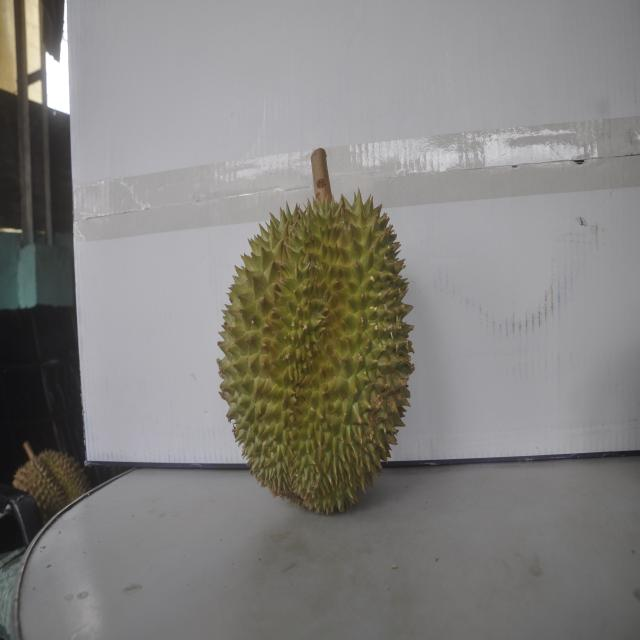mature: (218, 170, 416, 516), (12, 444, 92, 523)
